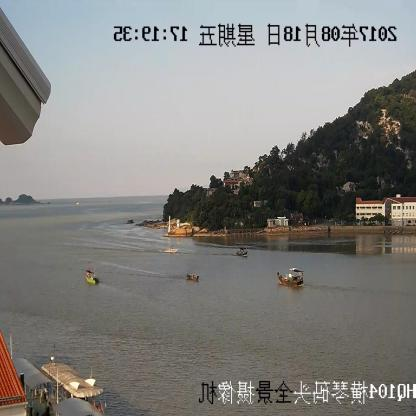Fishing Boat: (277, 269, 305, 285), (84, 271, 99, 284), (236, 246, 247, 257), (184, 272, 198, 280)
